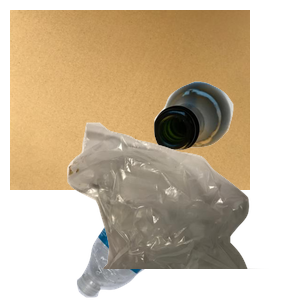cardboard: (10, 10, 250, 190)
glass: (151, 79, 300, 221)
plastic: (74, 156, 280, 300)
trash: (65, 120, 300, 300)
